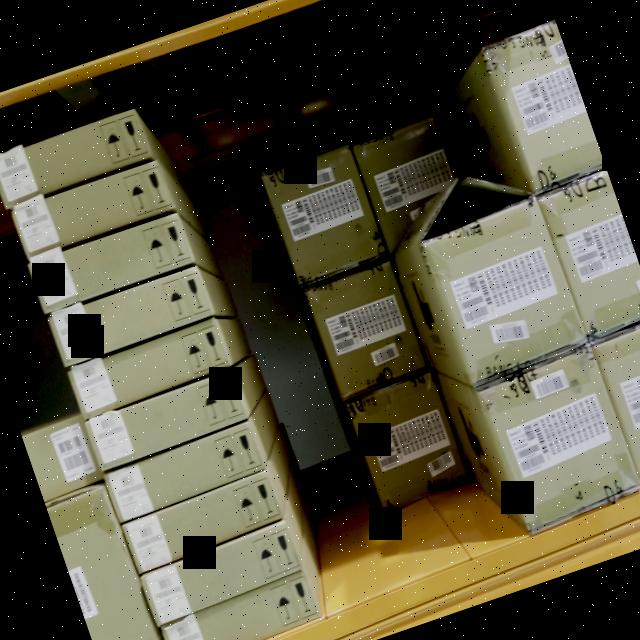box: (422, 199, 586, 377), (479, 346, 640, 527), (261, 145, 387, 285), (304, 259, 427, 398), (28, 212, 195, 313), (348, 372, 468, 510), (49, 266, 214, 366), (11, 161, 174, 260), (103, 421, 264, 519), (85, 371, 247, 468), (122, 473, 284, 568), (68, 321, 231, 415), (0, 110, 152, 209), (140, 526, 300, 616), (162, 578, 319, 640)
